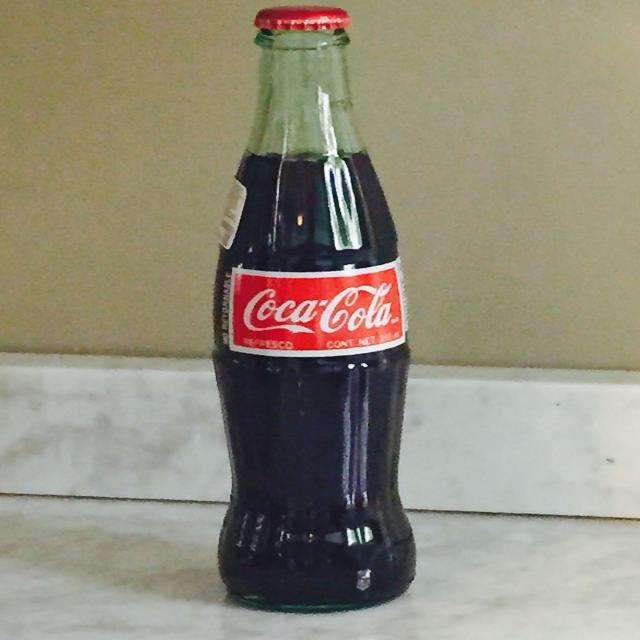Coke: (210, 7, 423, 617)
